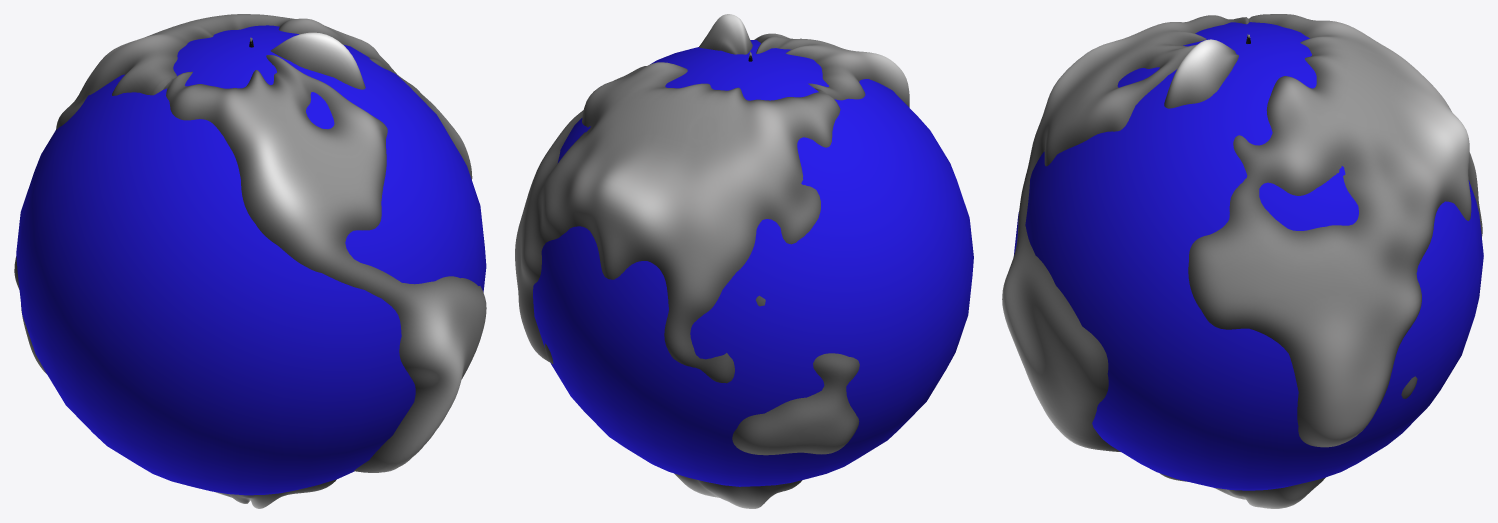
File: hello-displacement-planet1.glb
3 views of the same model, side by side, from view 1: azimuth 30°, elevation 25°; view 2: azimuth 150°, elevation 25°; view 3: azimuth 270°, elevation 25° (orthographic). The views are drawn at different scales.
Parts seen in each view (by area): view 1: Sea-uv2, Planet-uv2; view 2: Sea-uv2, Planet-uv2; view 3: Planet-uv2, Sea-uv2.
Boxes of the visible parts, box(x1,y1,x2,y2) form: Sea-uv2: box(16, 25, 486, 495); Planet-uv2: box(14, 14, 486, 508); Sea-uv2: box(533, 40, 973, 486); Planet-uv2: box(515, 14, 909, 508); Planet-uv2: box(1002, 14, 1482, 508); Sea-uv2: box(1014, 22, 1483, 490).
Bounding box in the file's own units: 2.01 × 2.23 × 2.05.
Materials: 2 (1 with a texture image).
